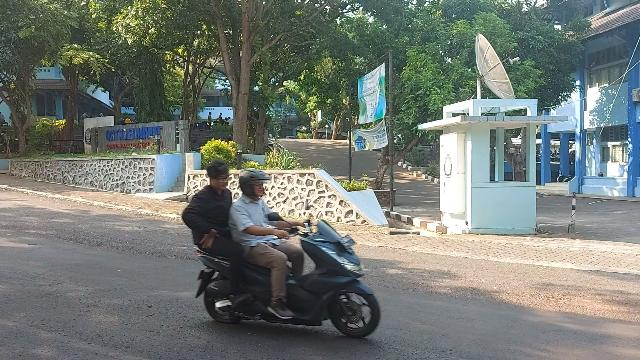helm: (241, 170, 272, 199)
motor: (196, 200, 382, 338)
non-helm: (209, 161, 230, 191)
